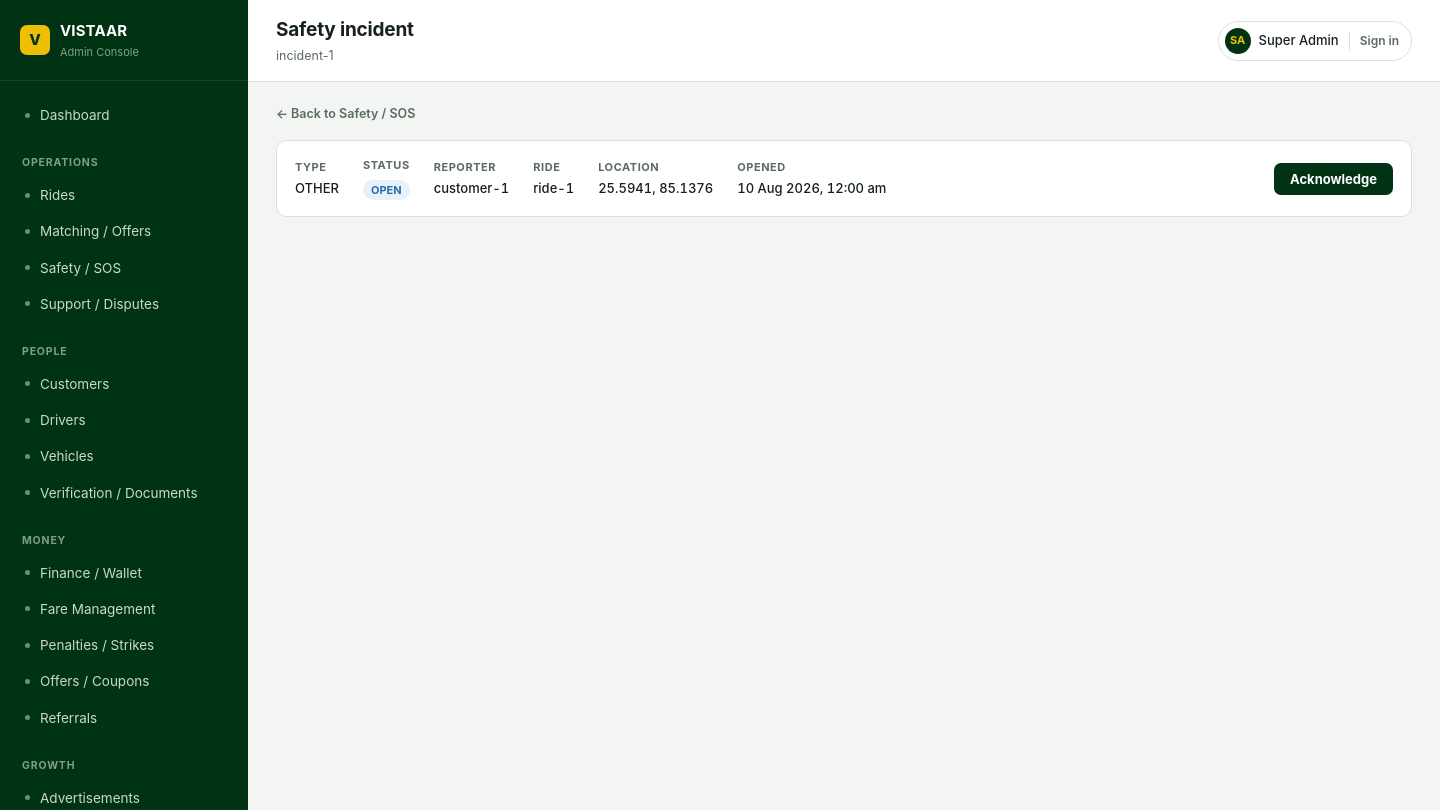
Test: IncidentDetailPage › offers only Acknowledge on an OPEN incident, and transitions on click
expect the button "Escalate" is not shown: met
Click the button "Acknowledge".
click(1334, 178)  # box left=1274, top=162, right=1393, bottom=194
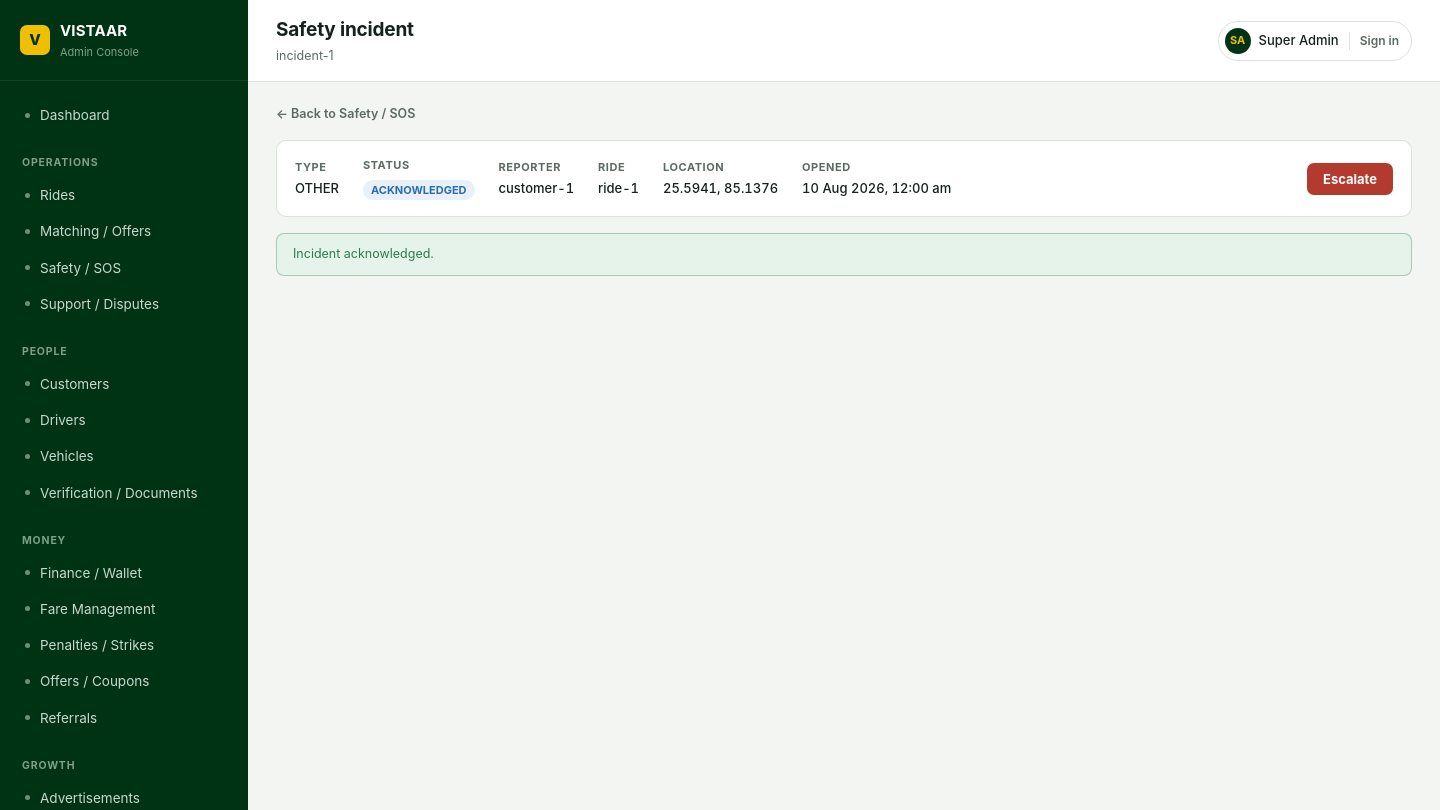
expect the text "Incident acknowledged." is shown: met, box left=276, top=233, right=1412, bottom=276
expect the button "Escalate" is shown: met, box left=1307, top=162, right=1393, bottom=194
